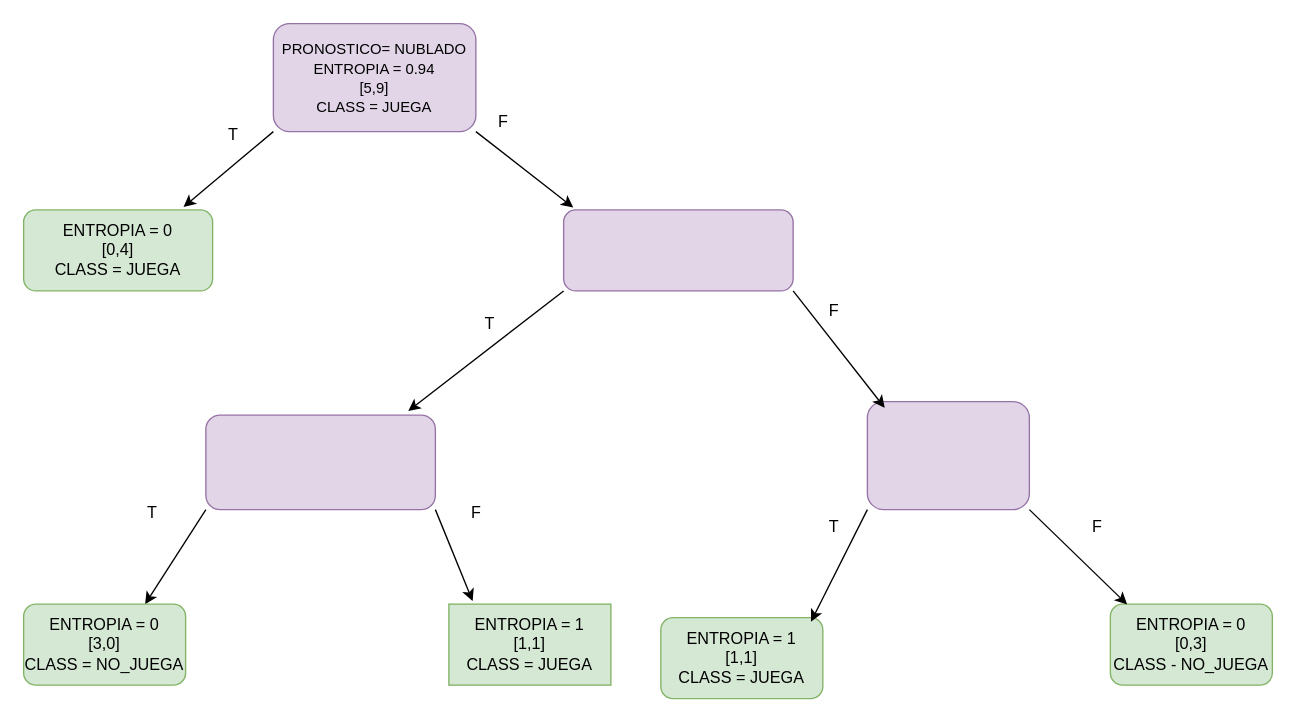
The diagram is 1296 pixels wide and 722 high, and some of its shapes have lost their labels. The shapes that lost their labels are listed below. From the top down, each one's box as (x1, y1, x2, y2) in pixels, then its label:
(562, 209, 793, 291): HUMEDAD= ALTA ENTROPIA = 1 [5,5] CLASS = NO_JUEGA
(205, 414, 435, 510): PRONOSTICO =SOLEADO ANTROPIA = 0.722 [4,1] CLASS = NO_JUEGA
(866, 400, 1029, 510): VIENTO = SI ENTROPIA = 0,722 [1,4] CLASS = JUEGA
